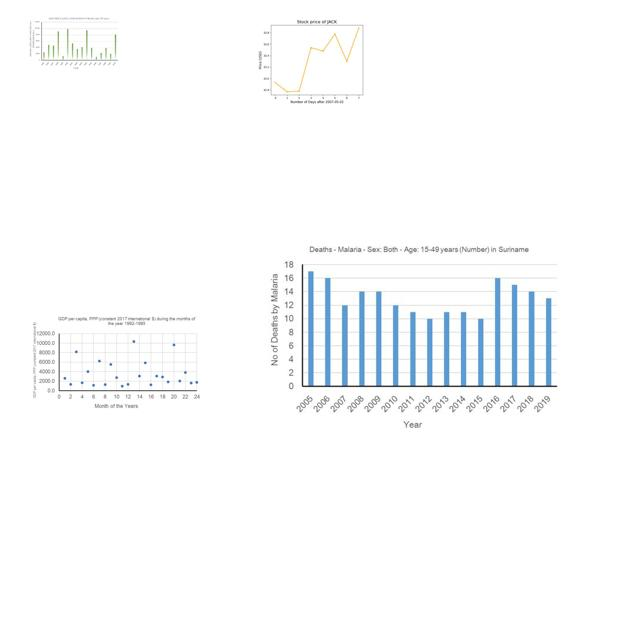Graph: (264, 241, 563, 434), (30, 311, 202, 411), (255, 14, 376, 105), (28, 16, 119, 70)
